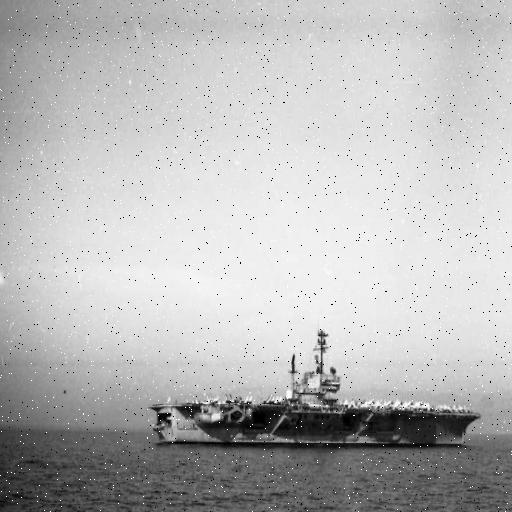Portanaves: (150, 325, 484, 451)
